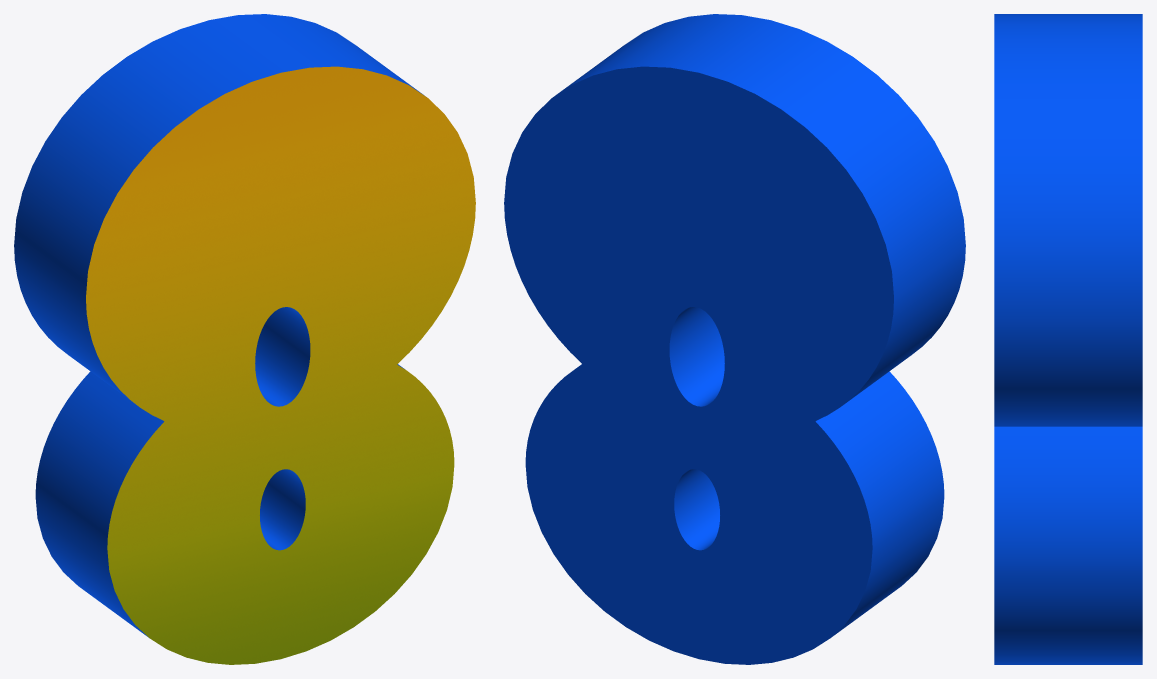
3 views of the same model, side by side, from view 1: azimuth 30°, elevation 25°; view 2: azimuth 150°, elevation 25°; view 3: azimuth 270°, elevation 25° (orthographic). The views are drawn at different scales.
Parts seen in each view (by area): view 1: 8; view 2: 8; view 3: 8.
Boxes of the visible parts, x1=… form: 8: x1=14, y1=14, x2=475, y2=664; 8: x1=504, y1=14, x2=965, y2=664; 8: x1=994, y1=14, x2=1142, y2=664.
Size of the model in its own units: 62.71 by 90.11 by 20.
2 materials, 1 textured.
